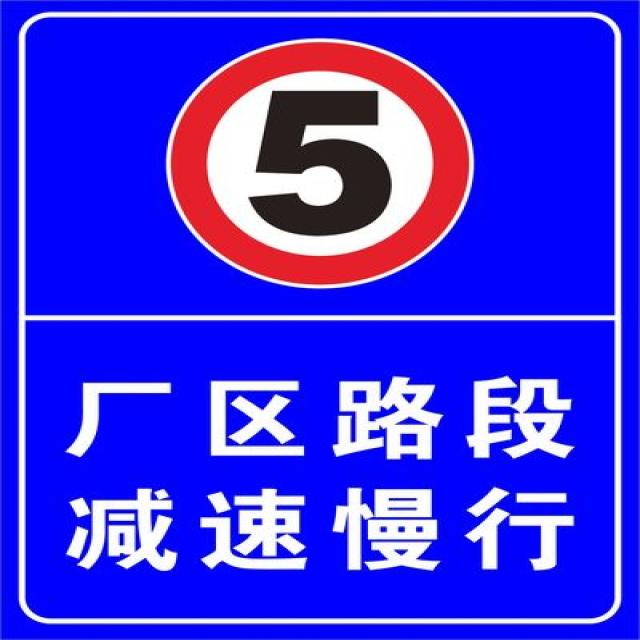speed limit 10: (163, 39, 473, 291)
